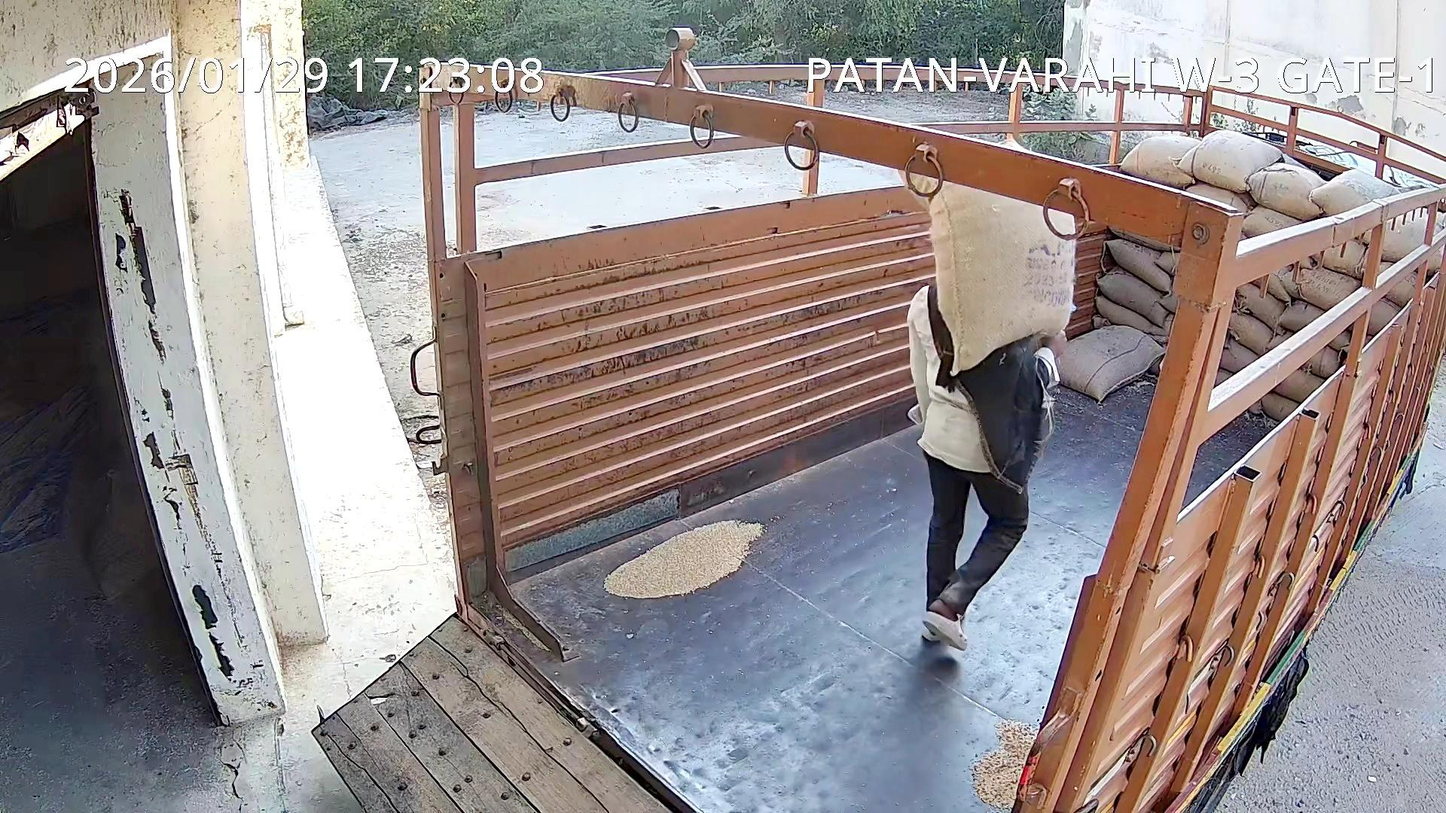Sack: (929, 181, 1073, 372)
